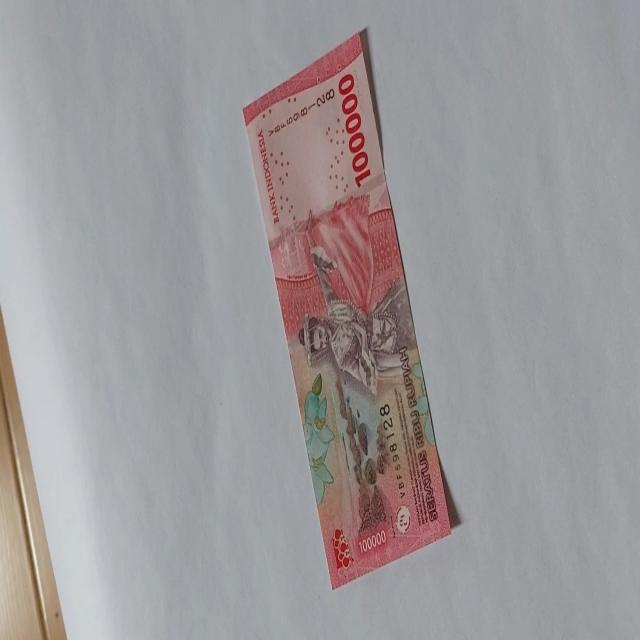seratus ribu rupiah: (242, 30, 452, 590)
